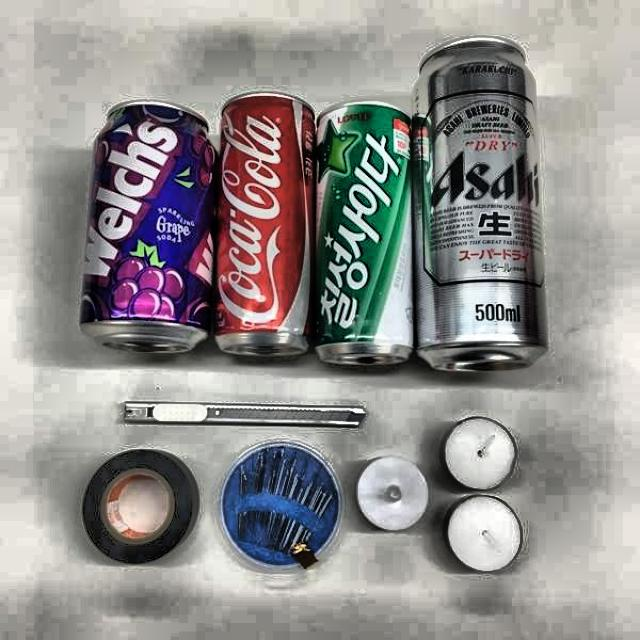can: (407, 29, 552, 377), (77, 91, 224, 364), (311, 91, 424, 379), (217, 80, 320, 363)
